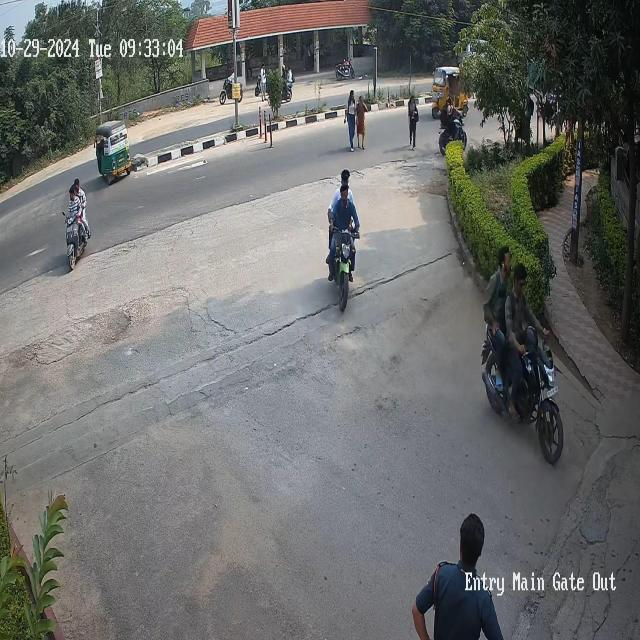double_rider: (479, 245, 565, 464), (327, 168, 359, 312)
